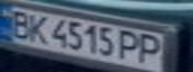1: (81, 22, 100, 55)
4: (45, 17, 69, 48)
5: (97, 25, 118, 58), (63, 20, 84, 52)
B: (3, 8, 36, 39)
K: (24, 12, 54, 44)
P: (133, 33, 169, 66), (115, 28, 145, 62)
